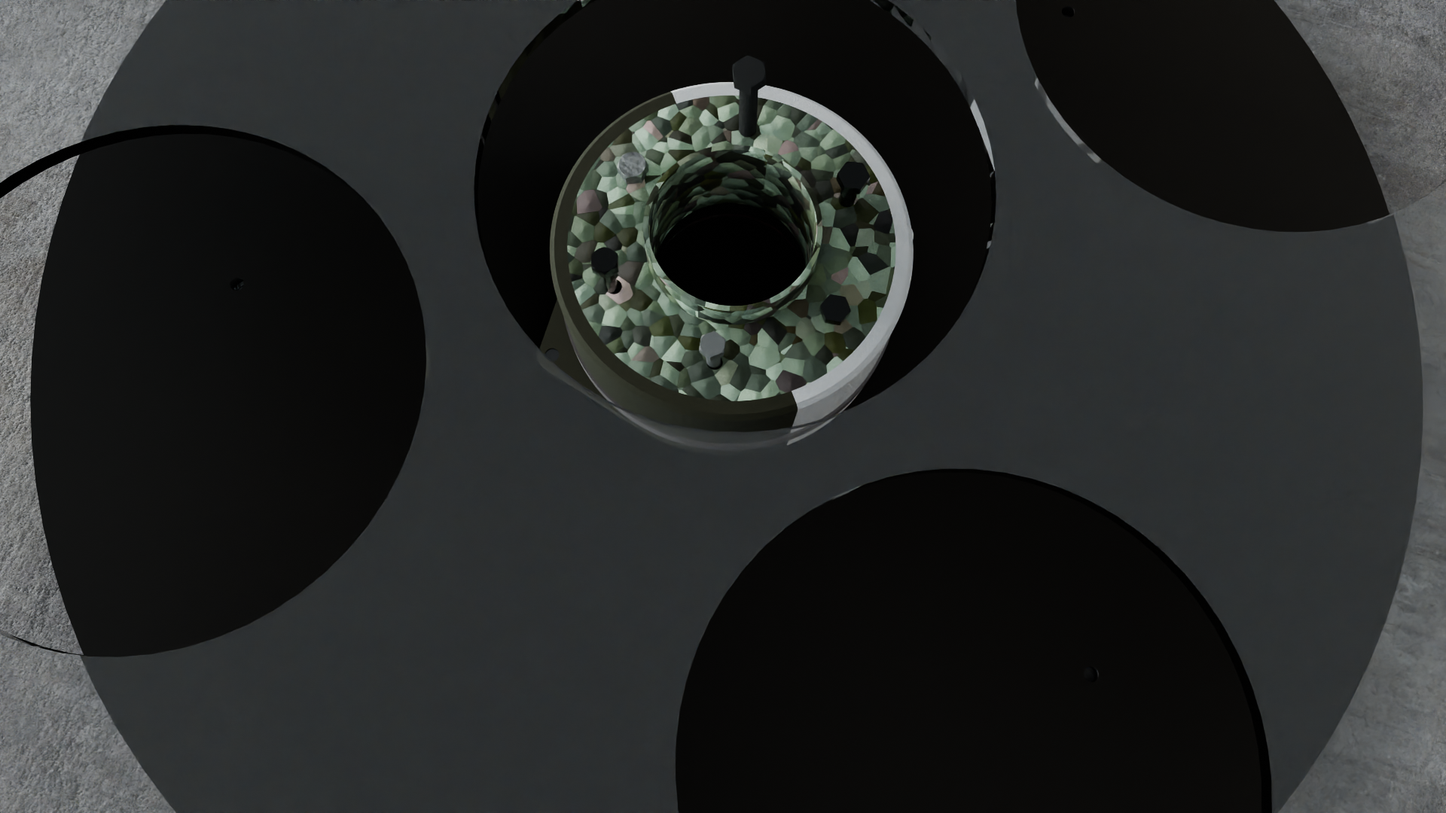bolt: (733, 56, 766, 88), (837, 162, 870, 189), (820, 294, 851, 322), (617, 152, 648, 178), (591, 247, 618, 275), (699, 331, 725, 358)
